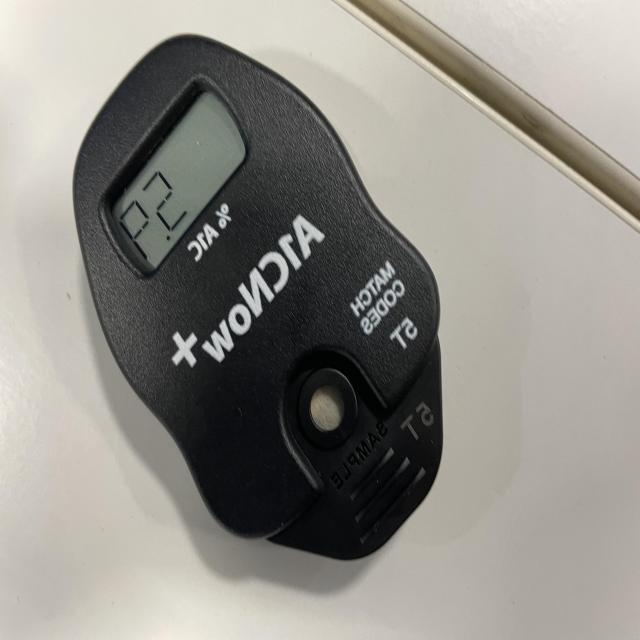hba1c: (74, 37, 443, 563)
